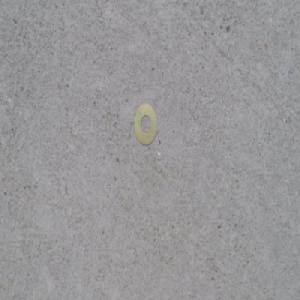Washer: (135, 102, 159, 147)
